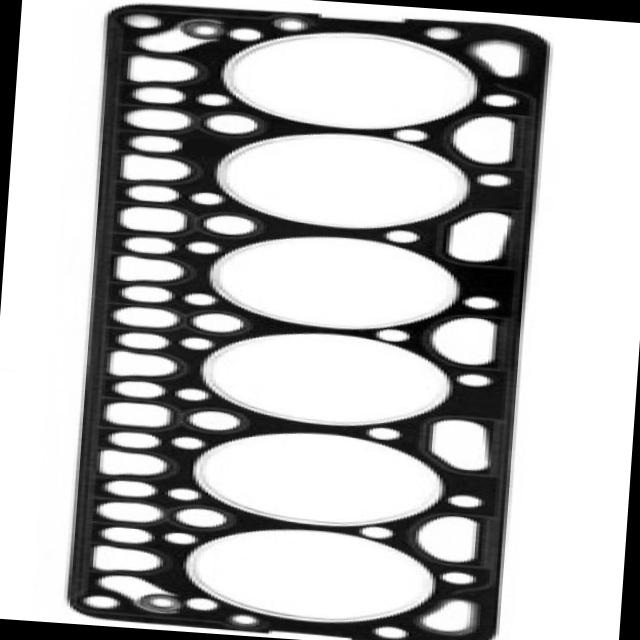missing hole: (176, 134, 236, 162)
